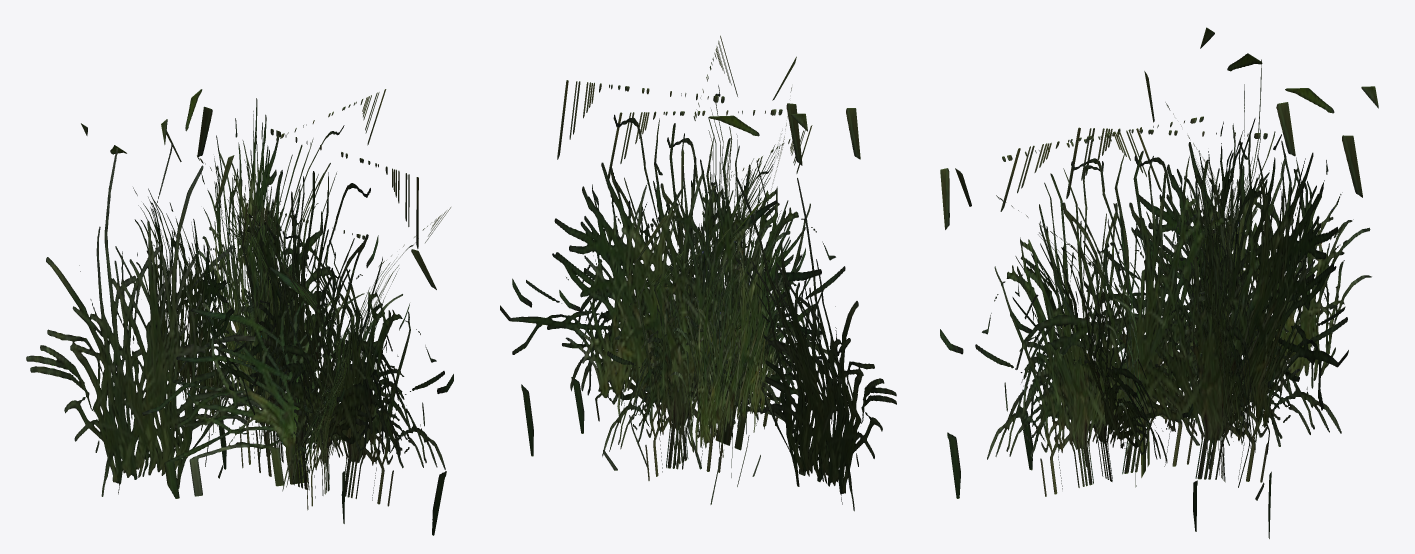
File: forest_grass_001_c_LOD1.gltf
3 renders of one model, left to right at view 1: azimuth 30°, elevation 25°; view 2: azimuth 150°, elevation 25°; view 3: azimuth 270°, elevation 25°, orthographic. The views are drawn at different scales.
Visible parts, largest first — view 1: forest_grass_001_c_LOD1; view 2: forest_grass_001_c_LOD1; view 3: forest_grass_001_c_LOD1.
Part boxes in pixels (x1,y1,x2,y2): forest_grass_001_c_LOD1: (26, 89, 453, 535); forest_grass_001_c_LOD1: (500, 35, 896, 511); forest_grass_001_c_LOD1: (940, 27, 1378, 538).
Bounding box in the file's own units: 0.9806 × 0.9027 × 0.9715.
1 material, 1 textured.
